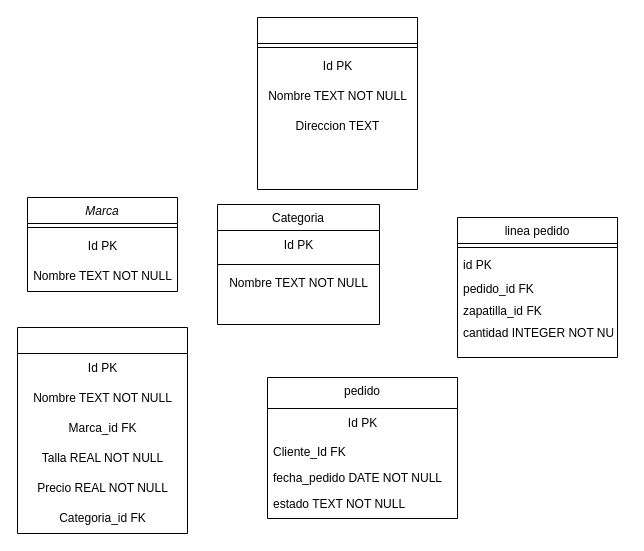
Image size: 644x551. Some labels were removed from this diagram. The box of each missing label's shape, as (x1, y1, x2, y2) in pixels:
cliente: (256, 16, 418, 190)
Zapatilla: (16, 326, 188, 534)
